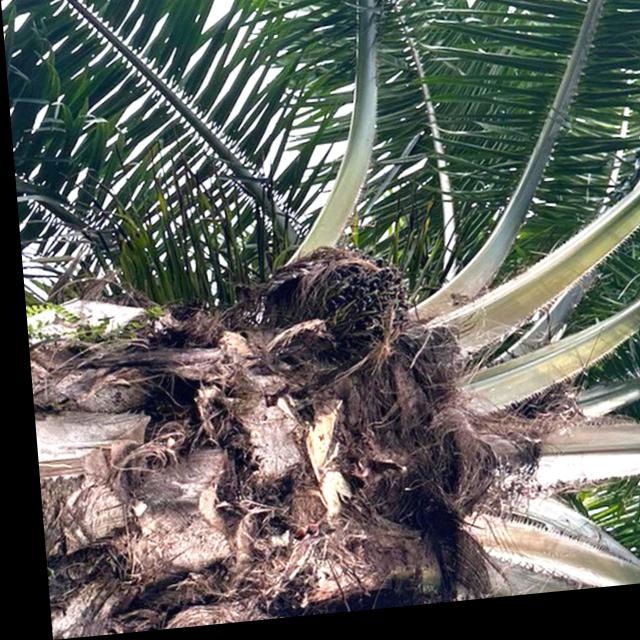unripe: (241, 227, 417, 367)
